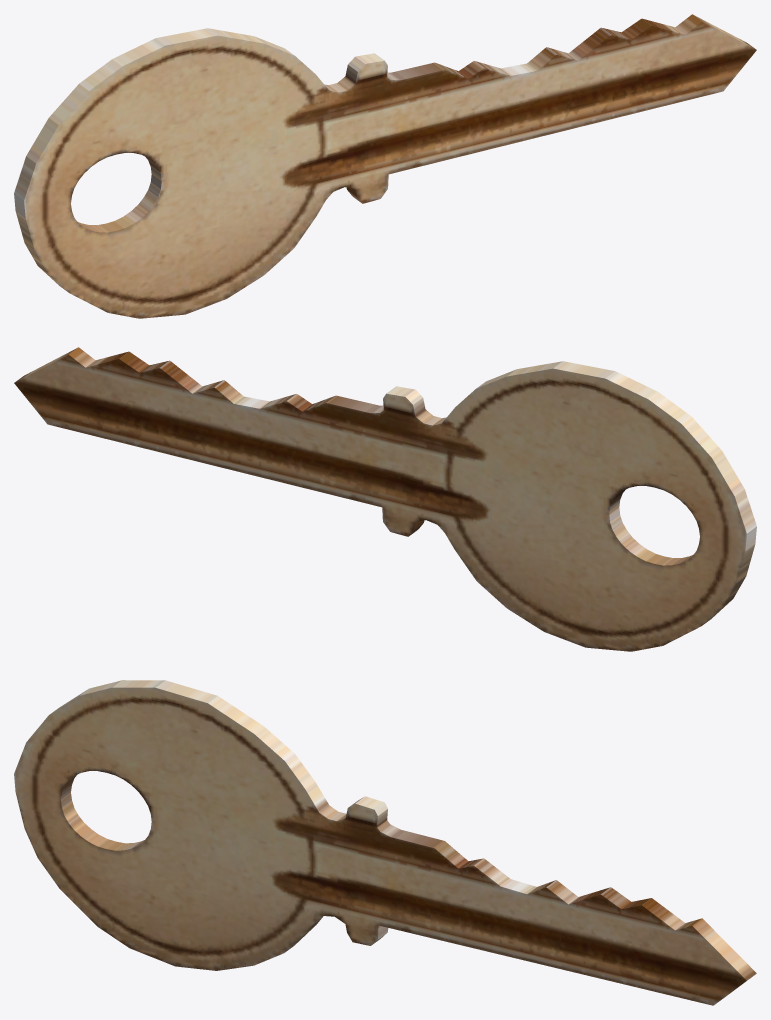
Rendered from SchoolGateKey(IO) 1.obj.
The picture shows the model from 3 angles, top to bottom: view 1: azimuth 30°, elevation 25°; view 2: azimuth 150°, elevation 25°; view 3: azimuth 330°, elevation 25°; orthographic projection.
Parts seen in each view (by area): view 1: mesh0; view 2: mesh0; view 3: mesh0.
Part boxes in pixels (box(x1,y1,x2,y2)): mesh0: box(14, 14, 756, 318); mesh0: box(14, 347, 756, 651); mesh0: box(14, 680, 756, 1005).
Size of the model in its own units: 0.00699 by 0.0025 by 0.000167.
1 material, 1 textured.
